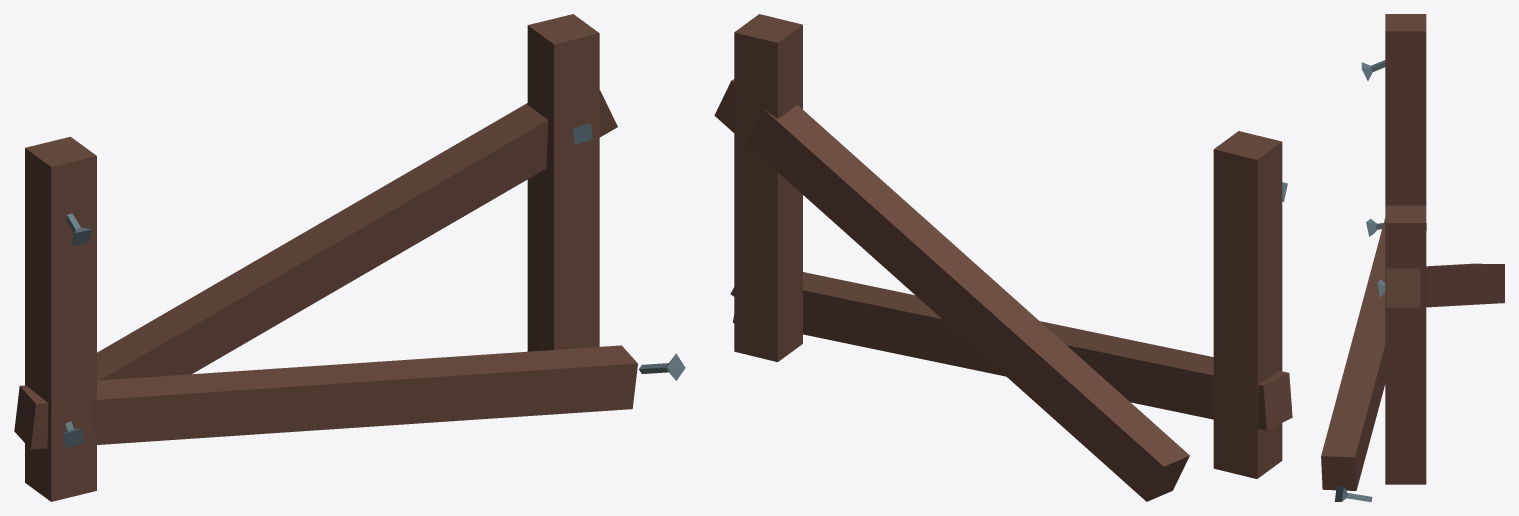
3 views of the same model, side by side, from view 1: azimuth 30°, elevation 25°; view 2: azimuth 150°, elevation 25°; view 3: azimuth 270°, elevation 25° (orthographic). The views are drawn at different scales.
Parts seen in each view (by area): view 1: node_MeshObject836591616-PolyPaper21; view 2: node_MeshObject836591616-PolyPaper21; view 3: node_MeshObject836591616-PolyPaper21.
Part boxes in pixels (bbox=[...]): node_MeshObject836591616-PolyPaper21: bbox=[14, 14, 685, 501]; node_MeshObject836591616-PolyPaper21: bbox=[714, 14, 1292, 501]; node_MeshObject836591616-PolyPaper21: bbox=[1321, 14, 1504, 501].
Size of the model in its own units: 1.09 by 0.5766 by 0.3566.
